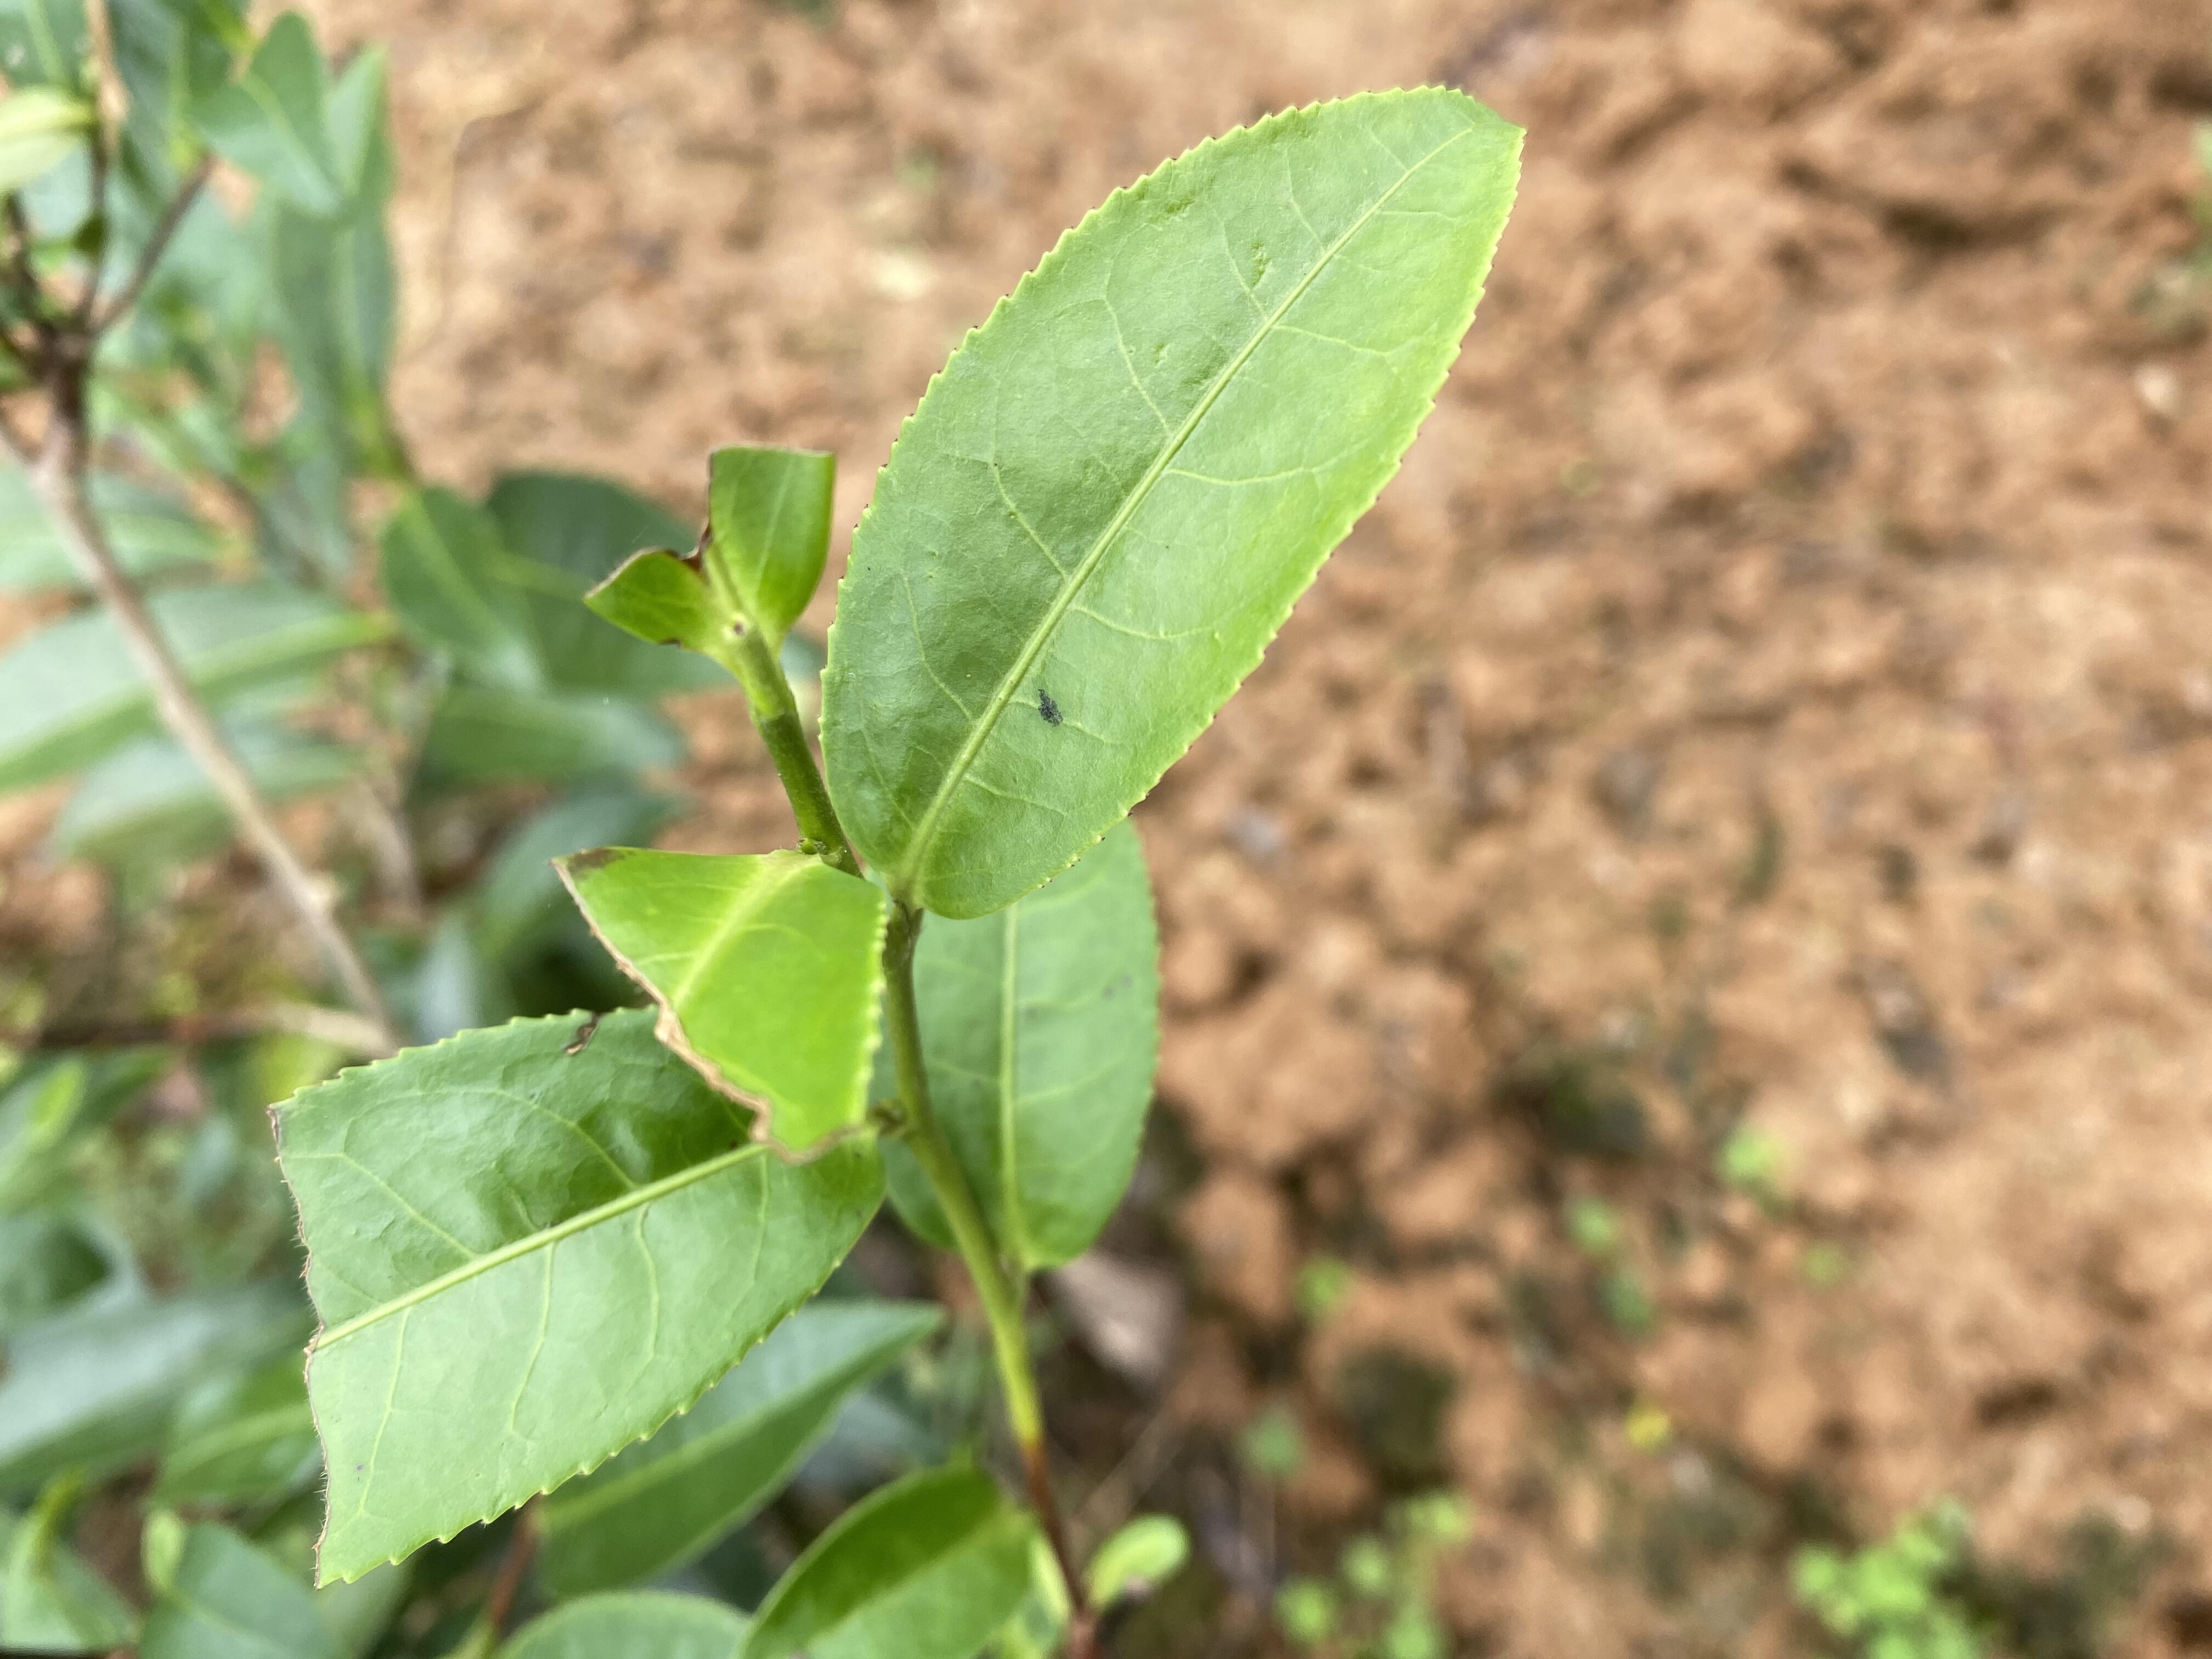chihuo_high: (266, 1002, 890, 1595), (549, 849, 892, 1168), (582, 446, 836, 669)
healthy: (820, 84, 1524, 922)
